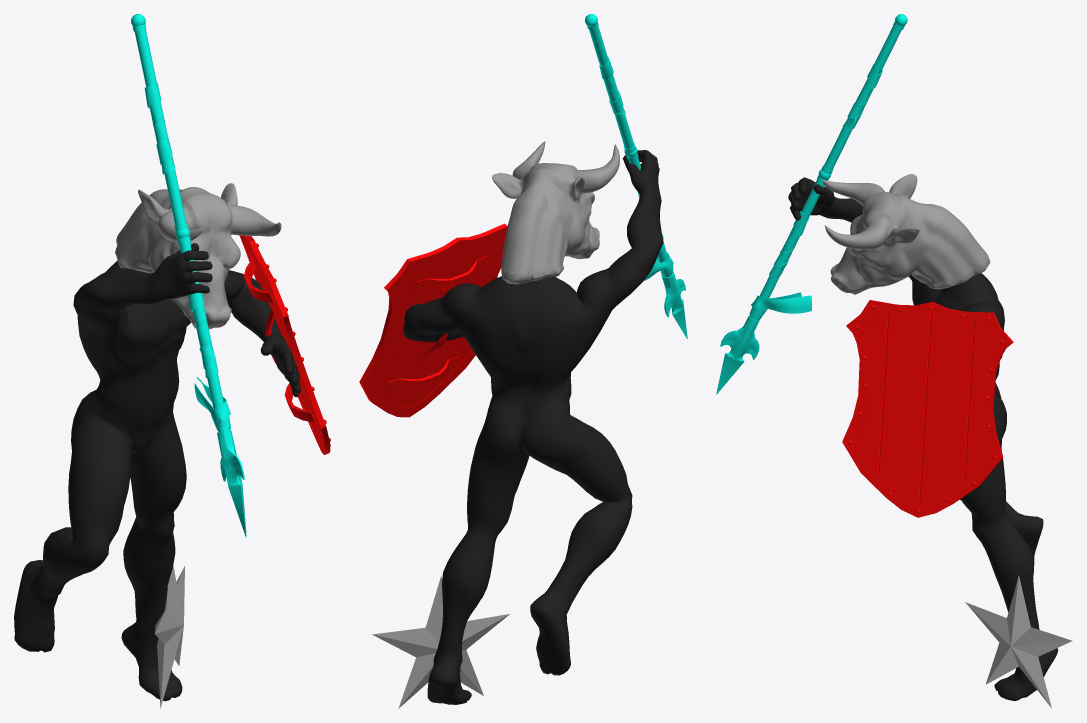
Rendered from toro.fbx.
3 renders of one model, left to right at view 1: azimuth 30°, elevation 25°; view 2: azimuth 150°, elevation 25°; view 3: azimuth 270°, elevation 25°, orthographic. The views are drawn at different scales.
Parts seen in each view (by area): view 1: estatua, LOW, Cylinder002, metal_low, Star001, MADERA3_low; view 2: estatua, LOW, metal_low, Star001, Cylinder002, MADERA2_low, MADERA3_low, MADERA1_low, MADERA4_low; view 3: LOW, estatua, MADERA2_low, MADERA3_low, metal_low, Cylinder002, Star001, MADERA4_low, MADERA1_low.
Boxes of the visible parts, <box> form: estatua: <box>14,243,300,701</box>; LOW: <box>115,183,281,329</box>; Cylinder002: <box>131,14,246,537</box>; metal_low: <box>239,235,330,454</box>; Star001: <box>154,565,184,707</box>; MADERA3_low: <box>255,258,320,441</box>; estatua: <box>403,150,663,704</box>; LOW: <box>492,141,619,284</box>; metal_low: <box>359,223,507,417</box>; Star001: <box>372,576,509,708</box>; Cylinder002: <box>585,14,687,338</box>; MADERA2_low: <box>384,250,456,406</box>; MADERA3_low: <box>412,240,488,405</box>; MADERA1_low: <box>374,265,421,395</box>; MADERA4_low: <box>451,237,503,372</box>; LOW: <box>822,174,990,294</box>; estatua: <box>788,177,1058,700</box>; MADERA2_low: <box>919,314,974,504</box>; MADERA3_low: <box>878,312,931,504</box>; metal_low: <box>842,300,1013,517</box>; Cylinder002: <box>716,14,907,394</box>; Star001: <box>965,575,1072,708</box>; MADERA4_low: <box>856,311,888,473</box>; MADERA1_low: <box>964,321,996,481</box>.
Bounding box in the file's own units: 91.79 × 244 × 123.
